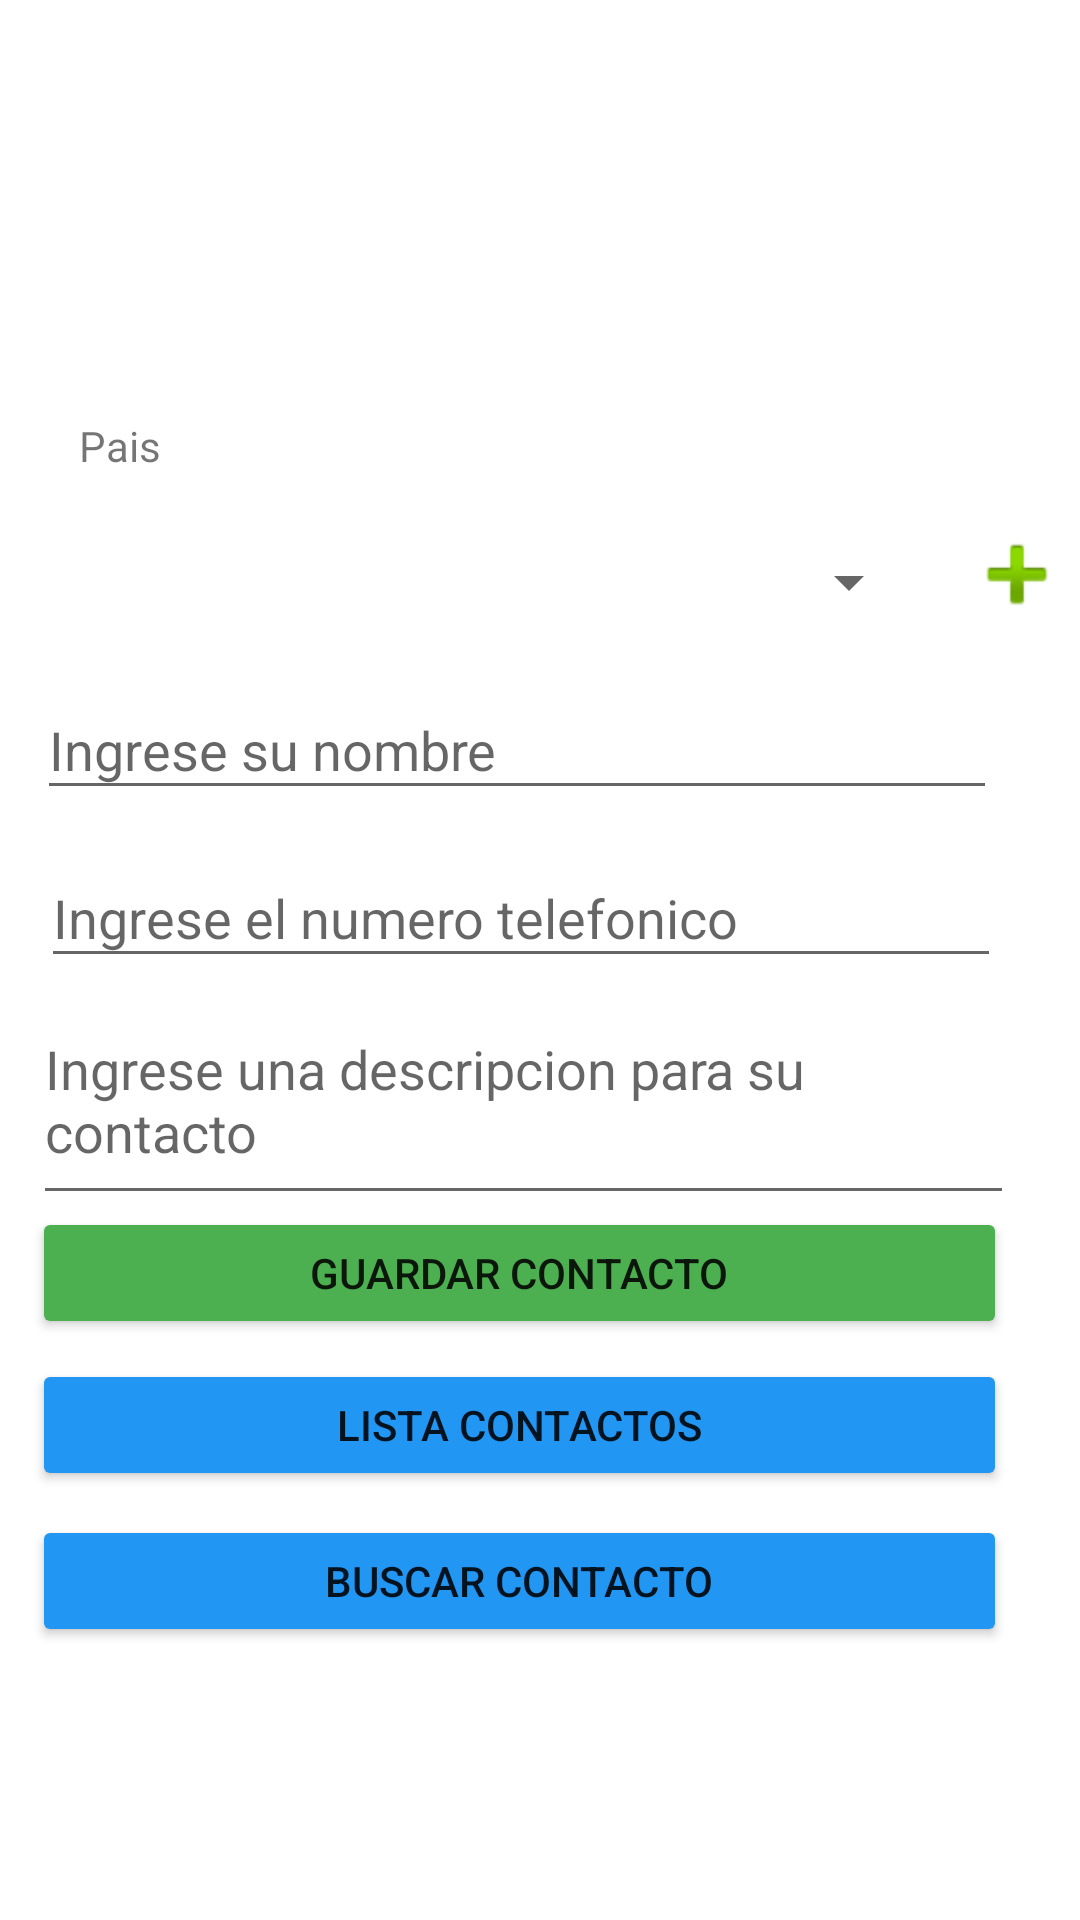

Screen size 1080×1920. Icon name, then its center in pixels as (x=x, y=y):
add: (x=1017, y=574)
